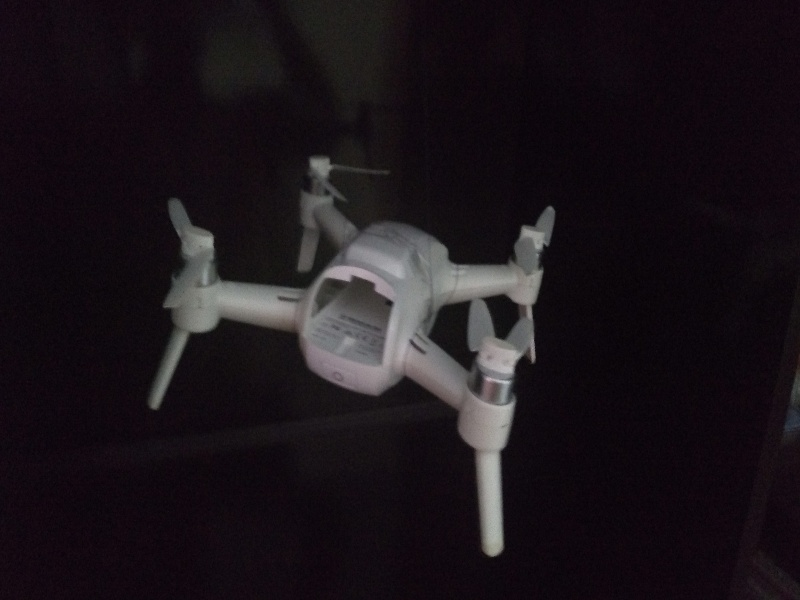drone: (130, 135, 561, 564)
